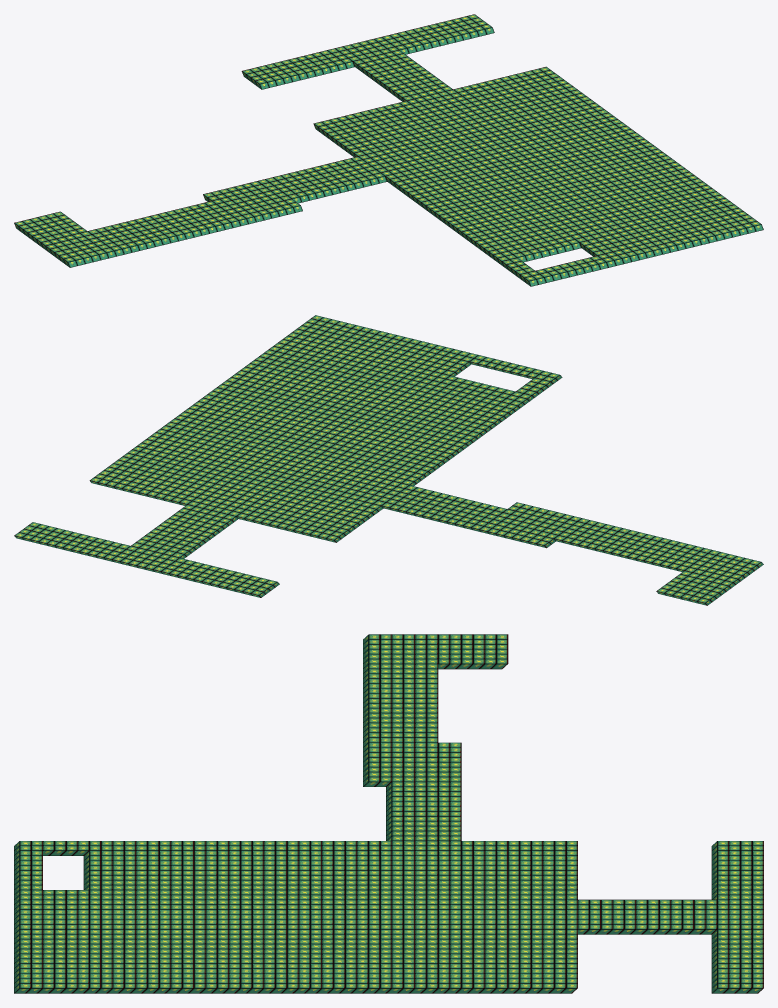
The model's file is Floor2.dae.
The picture shows the model from 3 angles, top to bottom: view 1: azimuth 30°, elevation 25°; view 2: azimuth 150°, elevation 25°; view 3: azimuth 270°, elevation 25°; orthographic projection. The views are drawn at different scales.
Parts seen in each view (by area): view 1: floor2.png_0_0; view 2: floor2.png_0_0; view 3: floor2.png_0_0.
Part boxes in pixels (x1,y1,x2,y2): floor2.png_0_0: (14, 14, 763, 286); floor2.png_0_0: (14, 315, 763, 605); floor2.png_0_0: (14, 634, 763, 993).
Bounding box in the file's own units: 72 × 64.5 × 0.5.
